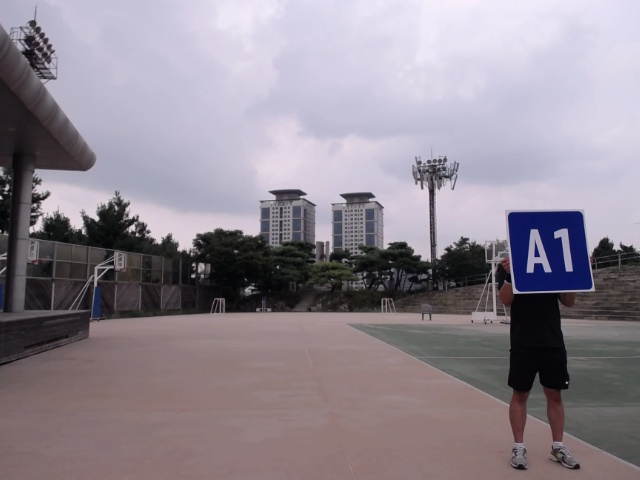delivery_a1: (507, 210, 595, 292)
